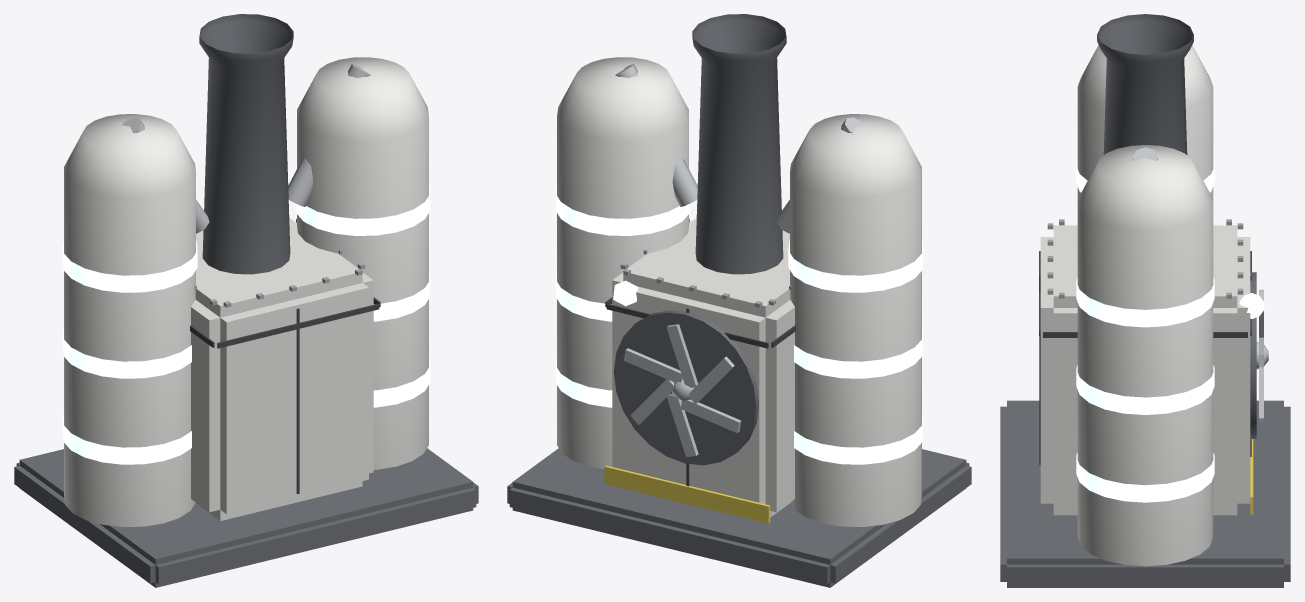
Rendered from decontaminator.fbx.
3 views of the same model, side by side, from view 1: azimuth 30°, elevation 25°; view 2: azimuth 150°, elevation 25°; view 3: azimuth 270°, elevation 25° (orthographic).
Parts seen in each view (by area): view 1: decontaminator; view 2: decontaminator, Rotor; view 3: decontaminator, Rotor, Indicator.
Boxes of the visible parts, left/top/right/bottom form: decontaminator: left=14, top=14, right=478, bottom=587; decontaminator: left=507, top=14, right=971, bottom=587; Rotor: left=623, top=324, right=741, bottom=457; decontaminator: left=1000, top=14, right=1290, bottom=587; Rotor: left=1256, top=289, right=1268, bottom=421; Indicator: left=1239, top=293, right=1264, bottom=318.
Size of the model in its own units: 2.56 by 3.25 by 1.8.
